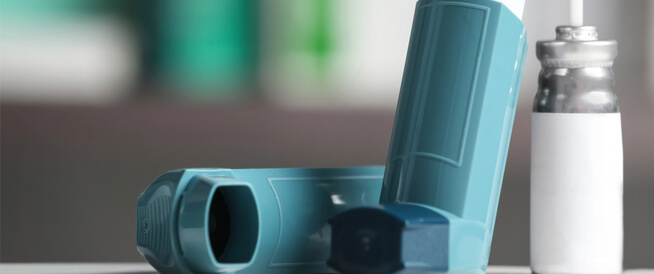Medicine: (318, 0, 538, 274), (522, 0, 637, 273), (128, 159, 382, 271)
